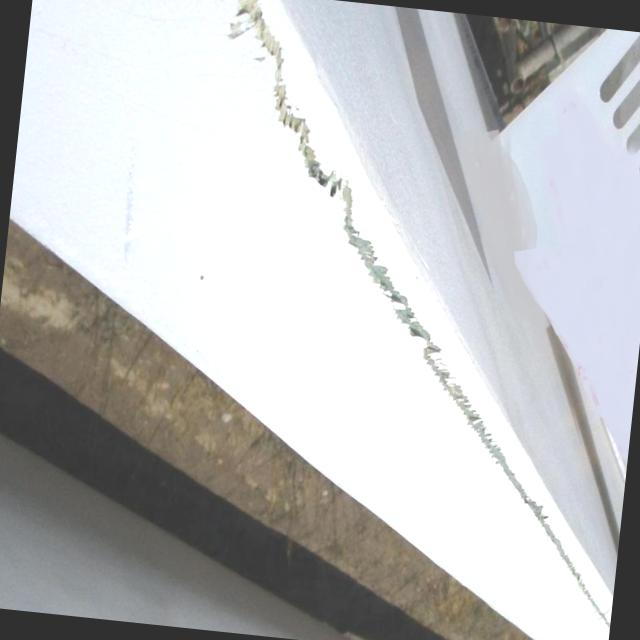crack: (193, 0, 447, 335), (400, 342, 633, 612)
